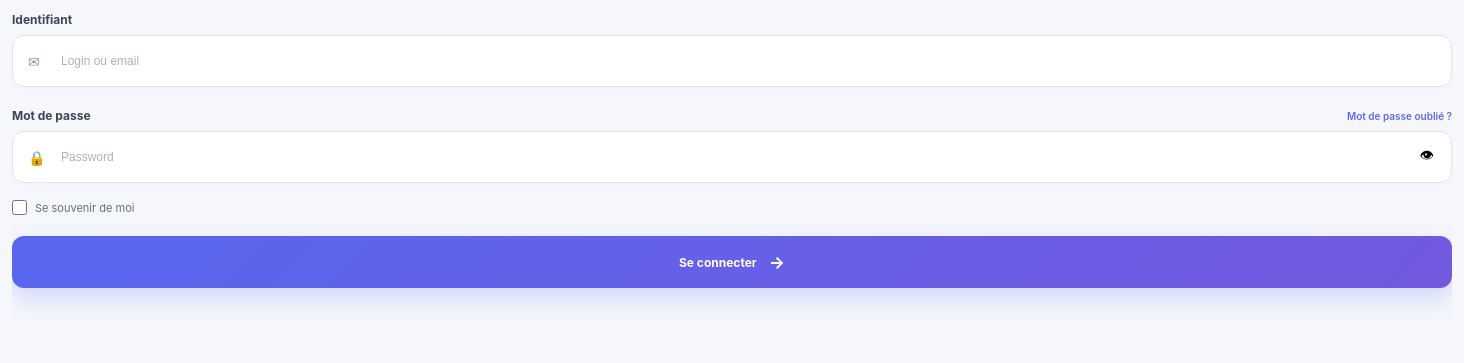
<LoginForm /> › signale une panne du serveur sans révéler l'erreur technique
Type "Arthur" into the field labelled "Identifiant".
click(732, 61); type("Arthur")  # box [12,35,1452,87]
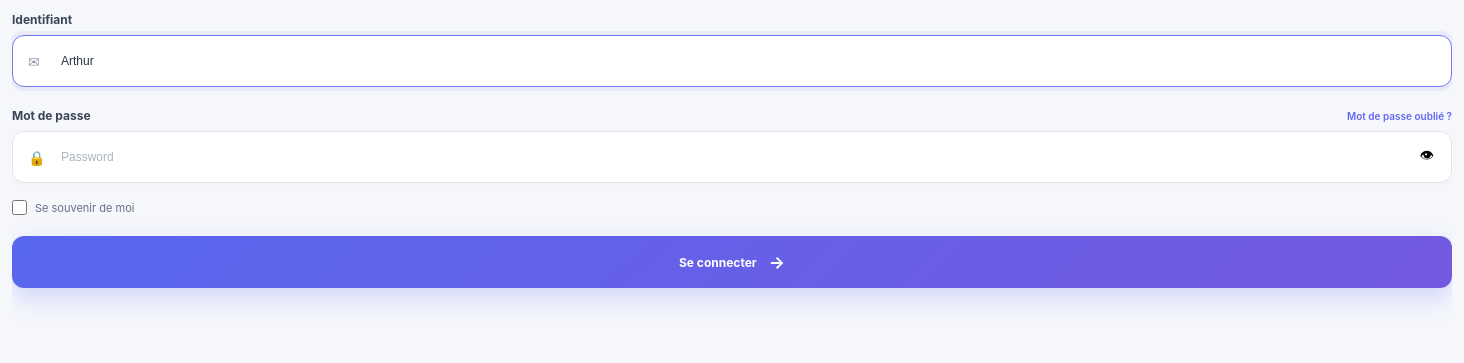
Type "admin" into the password field labelled "Mot de passe".
click(732, 157); type("admin")  # box [12,131,1452,183]
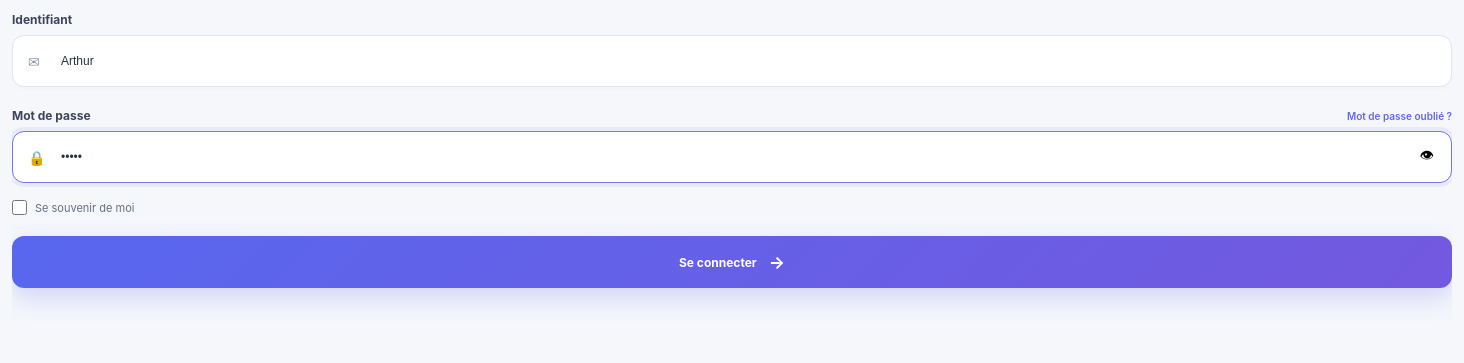
Click the button "Se connecter →".
click(732, 262)  # box [12,236,1452,288]
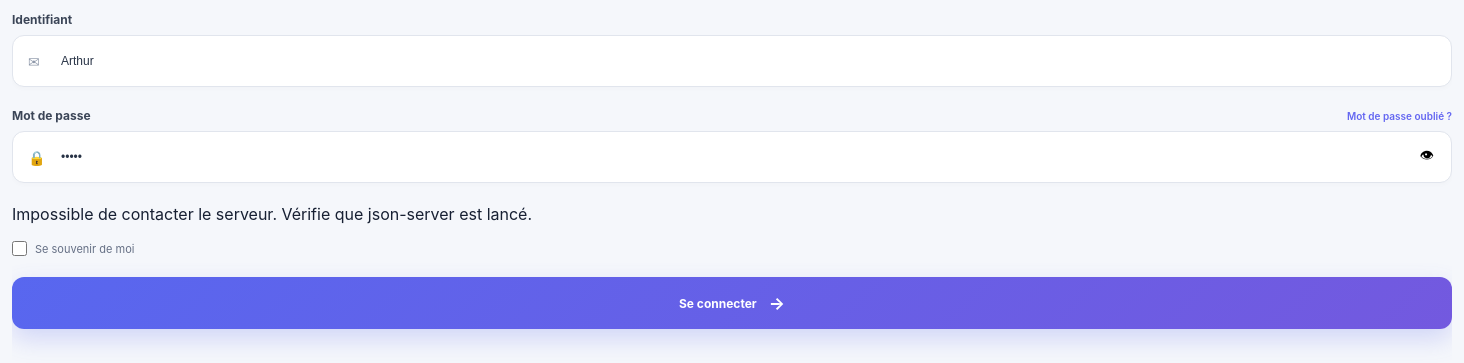
Expected: the text "Impossible de contacter le serveur. Vérifie que json-server est lancé." is shown, [12,204,532,224]
